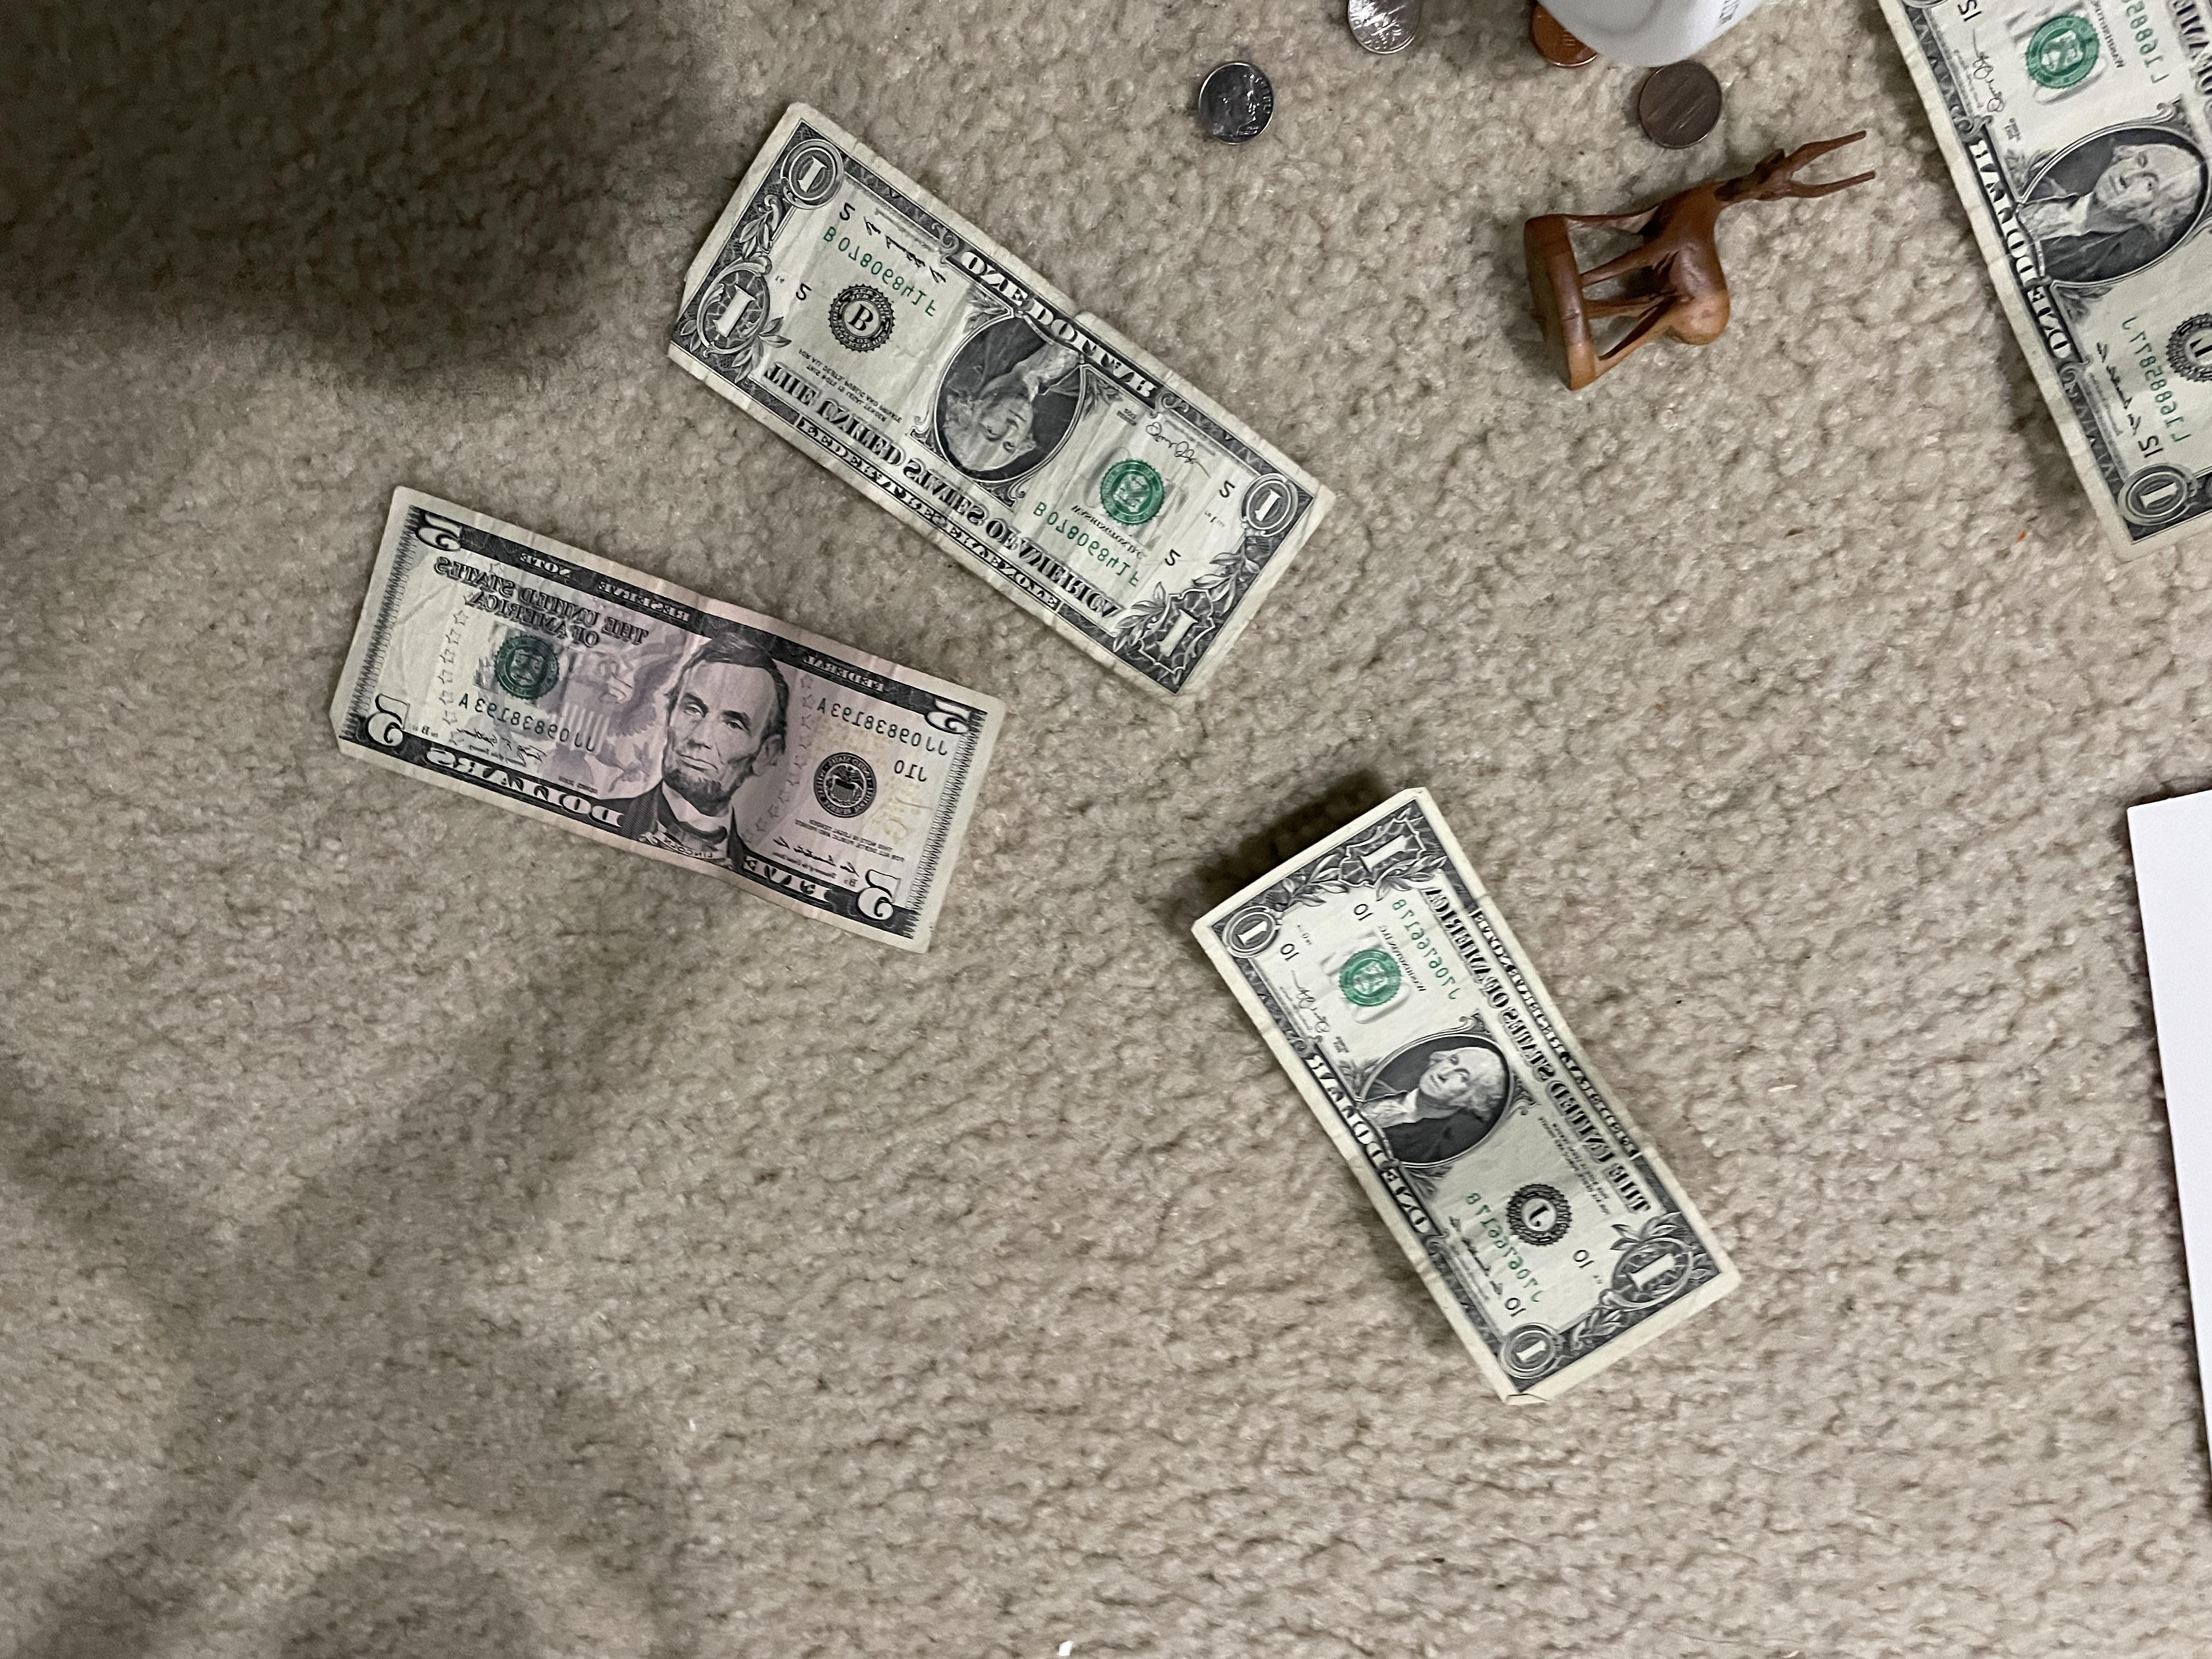Dime: (1193, 59, 1275, 138), (1336, 3, 1430, 61)
FiveBill: (320, 502, 1005, 964)
OneBill: (671, 112, 1345, 695), (1188, 777, 1740, 1410), (1883, 3, 2210, 575)
Penny: (1620, 73, 1750, 152)
